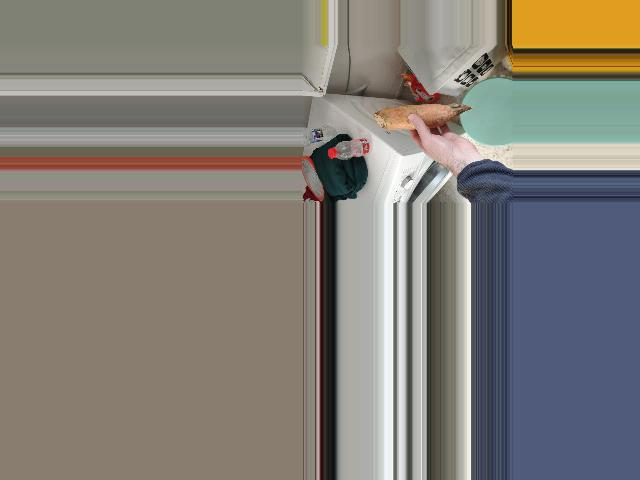sweet_potato: (370, 97, 469, 135)
